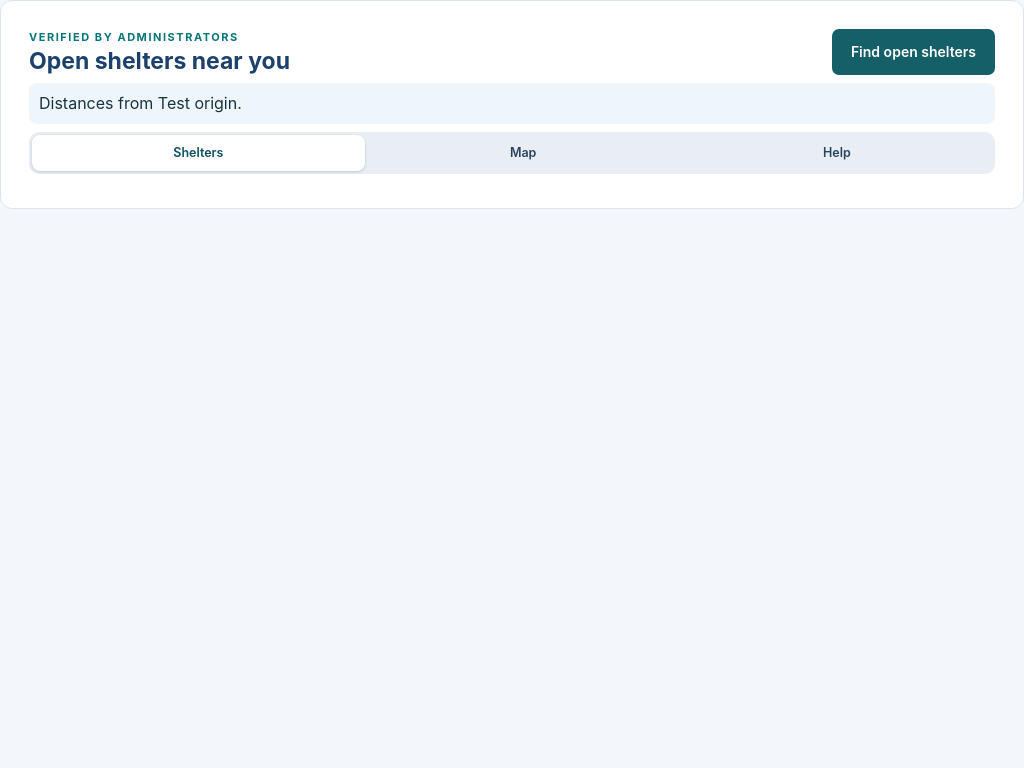
directory outage clears previous destinations
Click the button "Find open shelters" at [913, 52], box [832, 29, 995, 75]
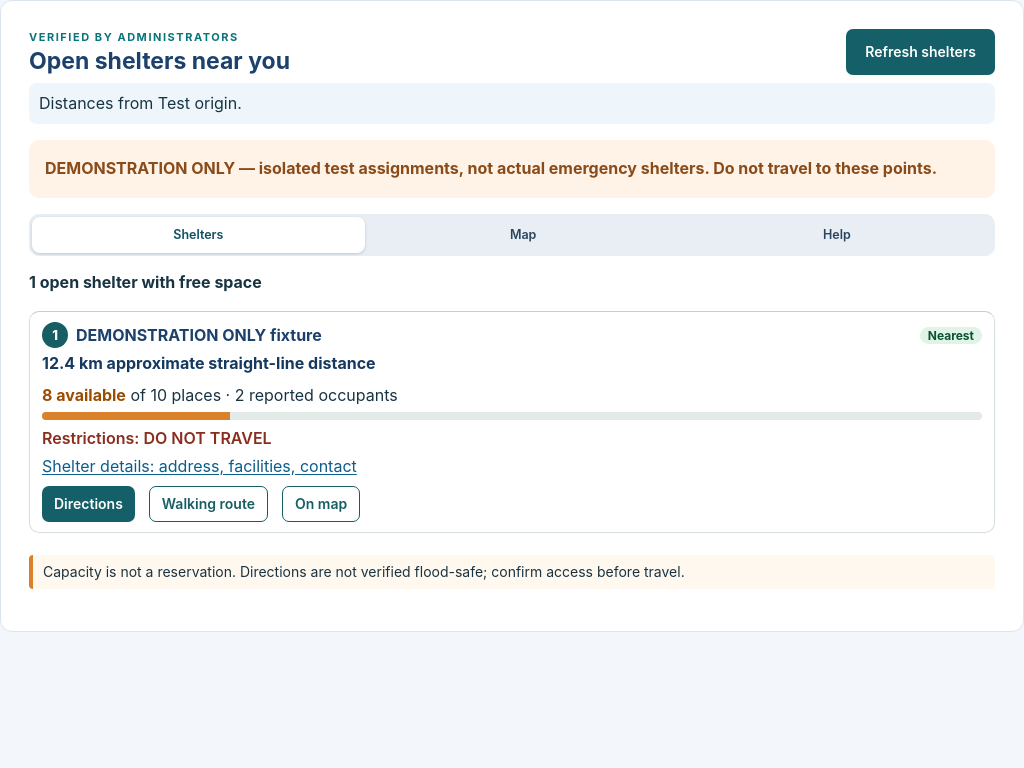
expect the heading "DEMONSTRATION ONLY fixture" is shown: met, box [76, 325, 322, 345]
Click the button "Refresh shelters" at [921, 52], box [846, 29, 995, 75]
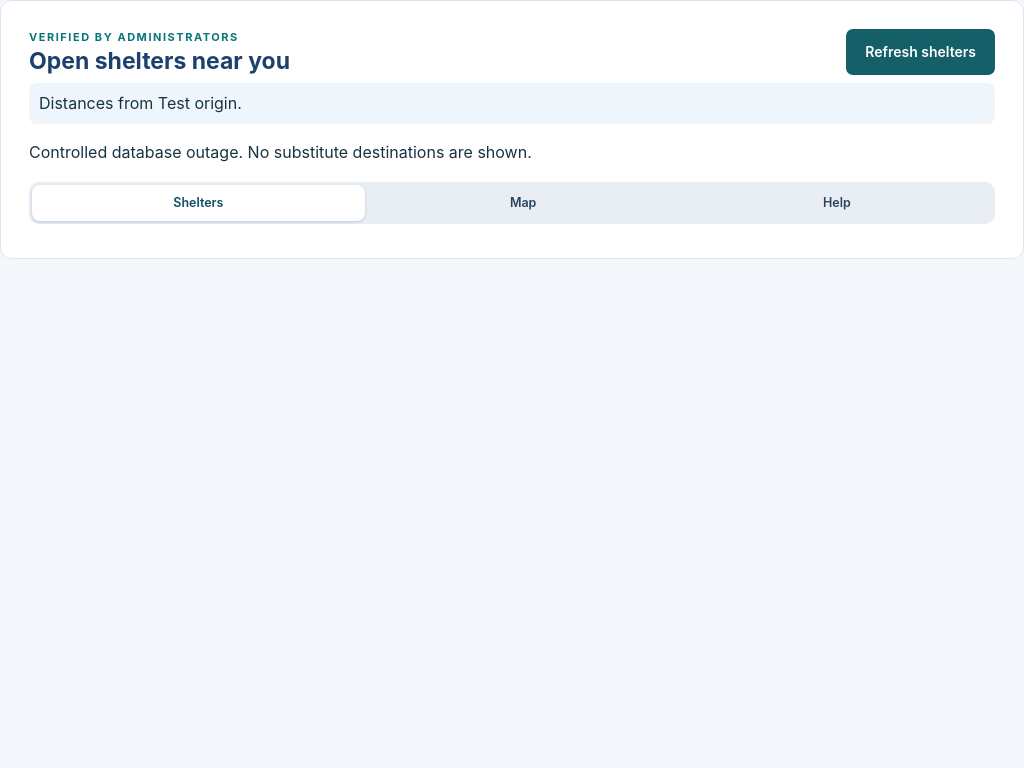
expect the text "Controlled database outage. No substitute destinations are shown." is shown: met, box [29, 142, 532, 162]
expect the heading "DEMONSTRATION ONLY fixture" is gone: met
